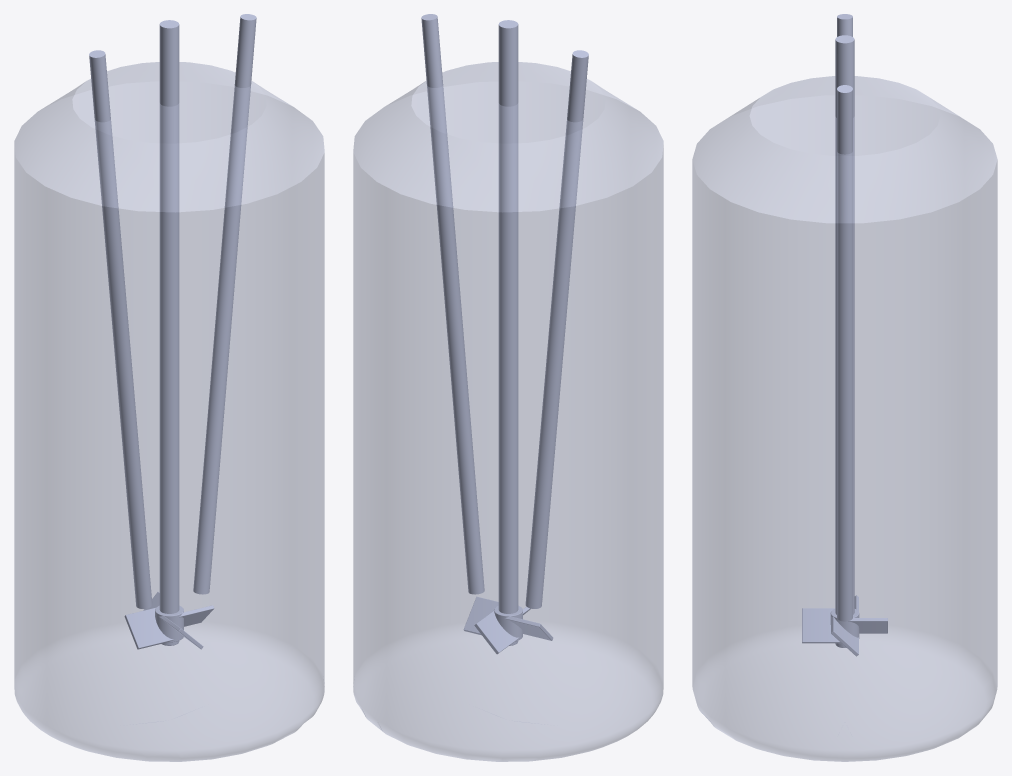
The picture shows the model from 3 angles, left to right: view 1: azimuth 30°, elevation 25°; view 2: azimuth 150°, elevation 25°; view 3: azimuth 270°, elevation 25°; orthographic projection. The views are drawn at different scales.
Visible parts, largest first — view 1: 5L Nalas Tank, Impeller 51162722, Probes.sldasm-Part-1, Probes.sldasm-Part-001; view 2: 5L Nalas Tank, Impeller 51162722, Probes.sldasm-Part-1, Probes.sldasm-Part-001; view 3: 5L Nalas Tank, Probes.sldasm-Part-1, Impeller 51162722.
Part boxes in pixels (left/top/right/bottom): 5L Nalas Tank: left=14, top=62, right=324, bottom=761; Impeller 51162722: left=124, top=20, right=214, bottom=649; Probes.sldasm-Part-1: left=193, top=14, right=256, bottom=594; Probes.sldasm-Part-001: left=89, top=50, right=152, bottom=608; 5L Nalas Tank: left=353, top=62, right=663, bottom=761; Impeller 51162722: left=463, top=20, right=553, bottom=654; Probes.sldasm-Part-1: left=421, top=14, right=484, bottom=594; Probes.sldasm-Part-001: left=525, top=50, right=588, bottom=608; 5L Nalas Tank: left=692, top=76, right=997, bottom=761; Probes.sldasm-Part-1: left=837, top=85, right=852, bottom=621; Impeller 51162722: left=802, top=35, right=887, bottom=656.
Size of the model in its own units: 0.1595 by 0.3944 by 0.16.
